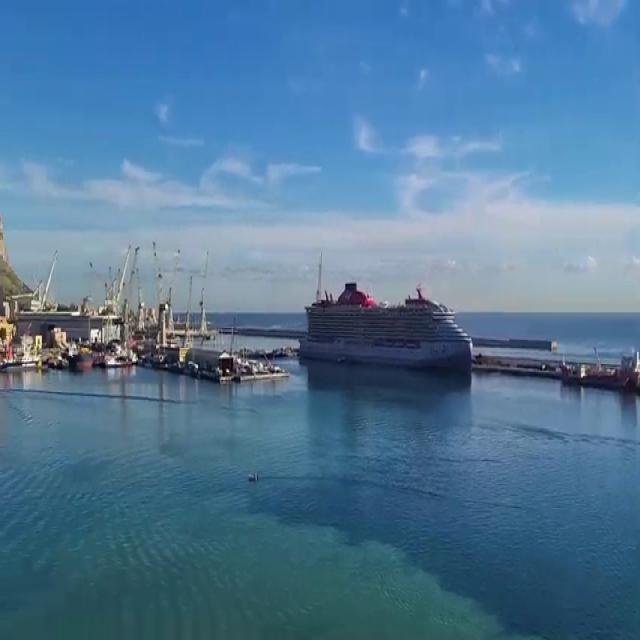passenger ship: (300, 278, 471, 378)
